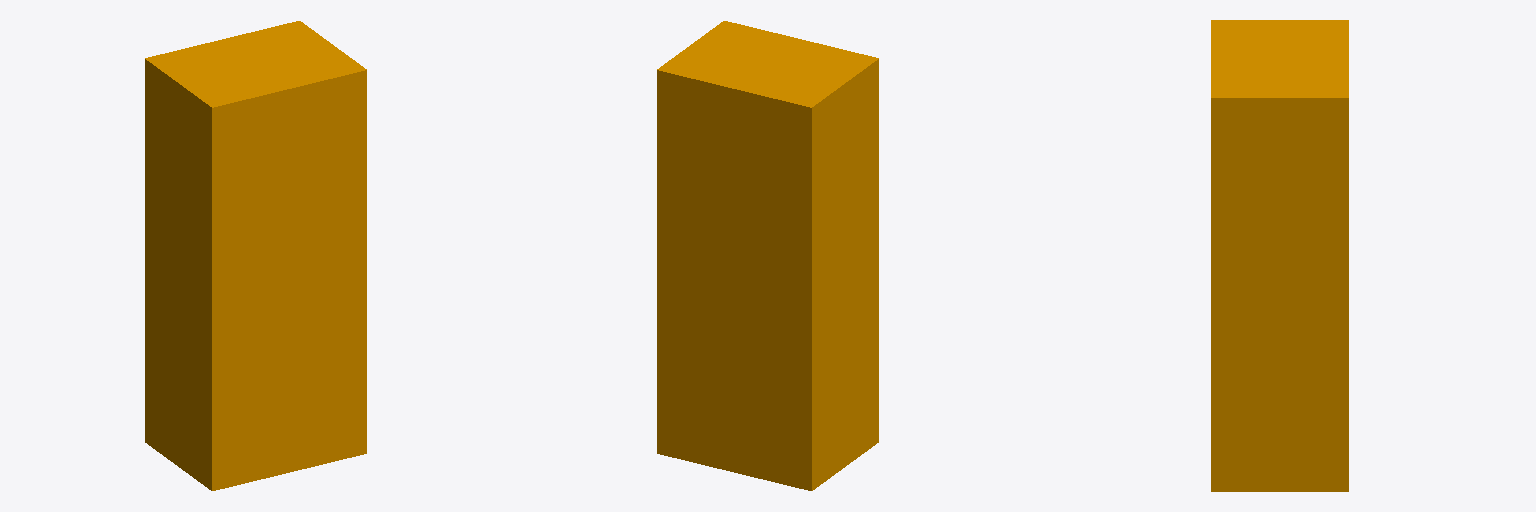
robot.urdf — jodsalz:
<?xml version="1.0" ?> 
<robot name="jodsalz">
  <link name="base_link">
  <inertial>
    <mass value="5.0" />
    <origin xyz="0 0 0.0" />
    <inertia  ixx="1.0" ixy="0.0"  ixz="0.0"  iyy="1.0"  iyz="0.0"  izz="1.0" />
  </inertial>
  <visual>
   <origin xyz="0 0 0.0" rpy="0 0 0" />
   <geometry>
     <mesh filename="package://cob_gazebo_worlds/Media/models/jodsalz.dae"/>
   </geometry>
  </visual>
  <collision>
   <origin xyz="0 0 0.072" rpy="0 0 0" />
   <geometry>
     <box size="0.061 0.046 0.144" />
     <!--mesh filename="package://cob_gazebo_worlds/Media/models/jodsalz.dae"/-->>
   </geometry>
  </collision>     
  </link>
</robot>

--- What the picture shows (computed from the rendered views, not written in the file) ---
Views: 3 orthographic renders of the robot side by side, from view 1: azimuth 30°, elevation 25°; view 2: azimuth 150°, elevation 25°; view 3: azimuth 270°, elevation 25°.
Robot: jodsalz — 1 links, 0 joints (none); root link base_link; default pose: every joint at zero.
Visible links, largest first — view 1: base_link; view 2: base_link; view 3: base_link.
Boxes of the visible links, x1,y1,x2,y2 form: base_link: (145, 21, 366, 490); base_link: (657, 21, 878, 490); base_link: (1211, 20, 1348, 491).
Size in the robot's own frame: 0.0006 by 0.0005 by 0.0014 metres.
1 mesh visuals loaded from 1 distinct referenced files (1 Collada DAE).
